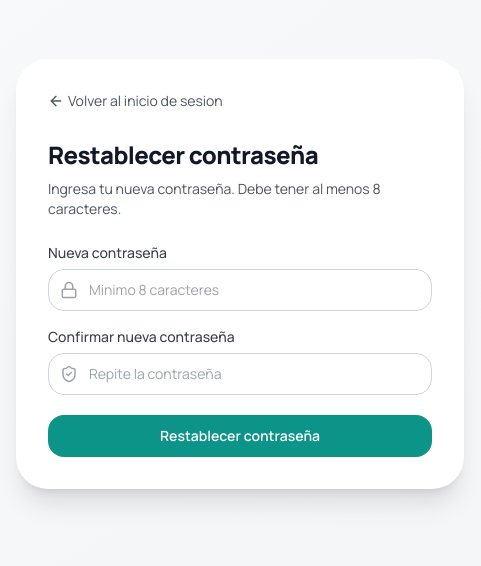
ResetPassword › valida que la contrasena tenga al menos 8 caracteres
This screenshot has width=481, height=566.
Type "short" into the password field labelled "Nueva contraseña" at (240,290), box left=48, top=269, right=432, bottom=311
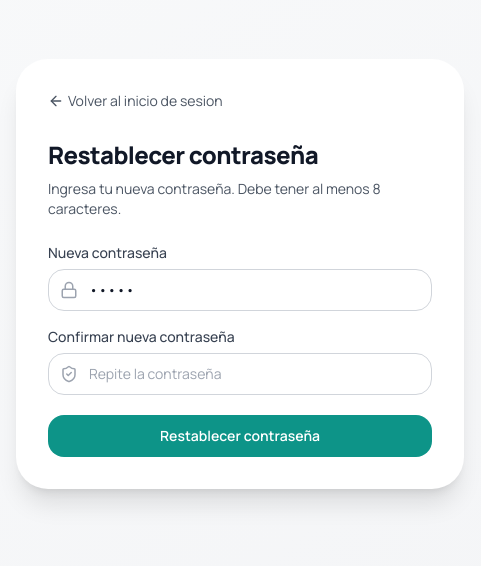
Type "short" into the password field labelled "Confirmar nueva contraseña" at (240,374), box left=48, top=353, right=432, bottom=395
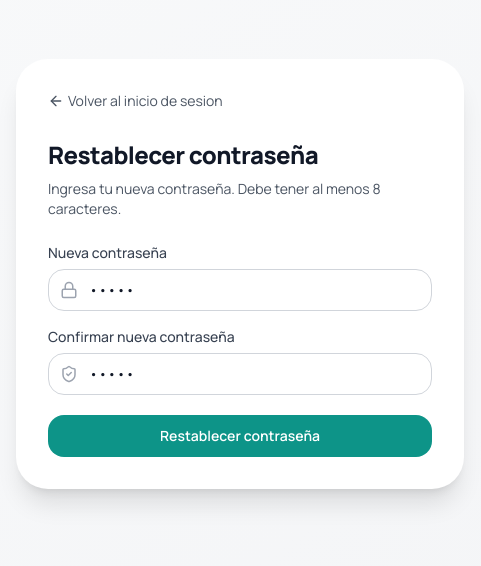
Click the button "Restablecer contraseña" at (240,436), box left=48, top=415, right=432, bottom=457
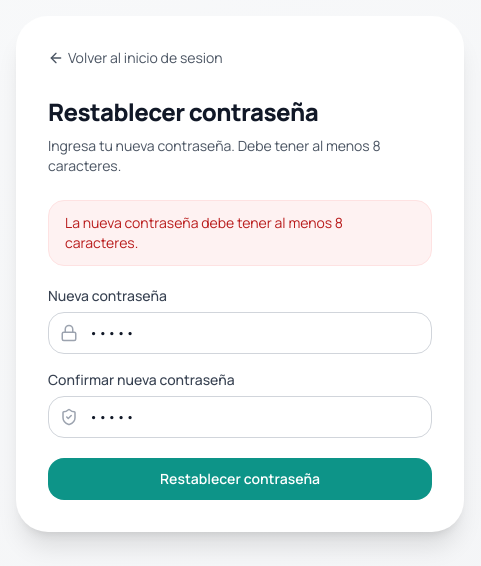
Expected: the message shows "al menos 8 caracteres", left=65, top=213, right=343, bottom=252
